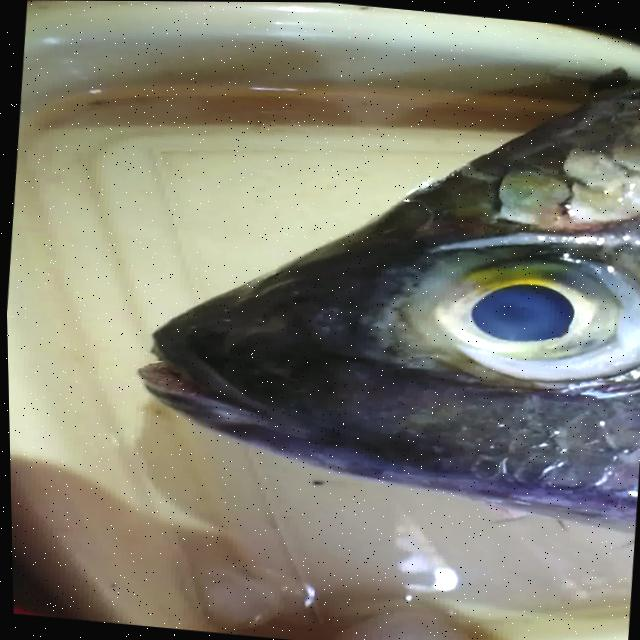Fresh: (392, 240, 640, 378)
